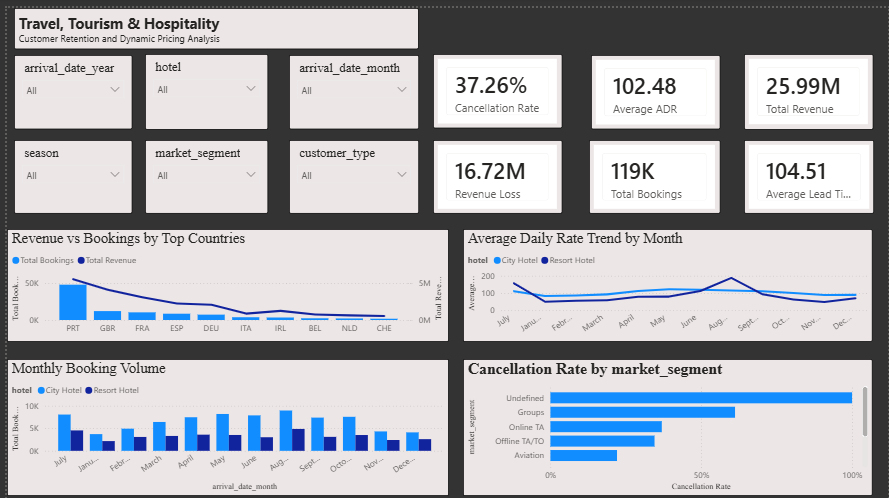

Layout of this report page (visuals, bound fields, positions):
{"tool":"powerbi","page":{"name":"Hotel Management Dashboard","canvas":[1280,720],"ordinal":0},"visuals":[{"type":"textbox","box":[9.8,0,1249.5,59.8],"z":0},{"type":"slicer","fields":{"Values":["cleaned_hotel_bookings.arrival_date_year"]},"box":[10.3,68.9,171.5,108.5],"z":1000},{"type":"slicer","fields":{"Values":["cleaned_hotel_bookings.hotel"]},"box":[200.9,67.4,178.9,110],"z":2000},{"type":"slicer","fields":{"Values":["cleaned_hotel_bookings.arrival_date_month"]},"box":[409.1,68.9,189.1,108.5],"z":3000},{"type":"slicer","fields":{"Values":["cleaned_hotel_bookings.market_segment"]},"box":[200.9,192.1,178.9,107],"z":4000},{"type":"slicer","fields":{"Values":["cleaned_hotel_bookings.customer_type"]},"box":[409.1,192.1,189.1,107],"z":5000},{"type":"slicer","fields":{"Values":["cleaned_hotel_bookings.season"]},"box":[10.3,192.1,171.5,107],"z":6000},{"type":"lineClusteredColumnComboChart","title":"Revenue vs Bookings by Top Countries","fields":{"Category":["cleaned_hotel_bookings.country"],"Y":["cleaned_hotel_bookings.Total Bookings"],"Y2":["cleaned_hotel_bookings.Total Revenue"]},"box":[9.9,321.8,632.2,163],"z":7000},{"type":"lineChart","title":"Average Daily Rate Trend by Month","fields":{"Category":["cleaned_hotel_bookings.arrival_date_month"],"Y":["cleaned_hotel_bookings.Average ADR"],"Series":["cleaned_hotel_bookings.hotel"]},"box":[662.7,321.1,595.3,164.2],"z":8000},{"type":"cardVisual","fields":{"Data":["cleaned_hotel_bookings.Cancellation Rate"]},"box":[618.7,67.4,187.7,108.5],"z":9000},{"type":"cardVisual","fields":{"Data":["cleaned_hotel_bookings.Average ADR"]},"box":[848.9,68.9,187.7,108.5],"z":10000},{"type":"cardVisual","fields":{"Data":["cleaned_hotel_bookings.Total Revenue"]},"box":[1070.3,67.4,187.7,110],"z":11000},{"type":"cardVisual","fields":{"Data":["cleaned_hotel_bookings.Total Bookings"]},"box":[846,192.1,190.6,107],"z":12000},{"type":"cardVisual","fields":{"Data":["cleaned_hotel_bookings.Revenue Loss"]},"box":[618.7,192.1,187.7,107],"z":13000},{"type":"cardVisual","fields":{"Data":["cleaned_hotel_bookings.Average Lead Time"]},"box":[1070.3,192.1,189.1,107],"z":14000},{"type":"clusteredColumnChart","title":"Monthly Booking Volume","fields":{"Category":["cleaned_hotel_bookings.arrival_date_month"],"Y":["cleaned_hotel_bookings.Total Bookings"],"Series":["cleaned_hotel_bookings.hotel"]},"box":[9.9,510.3,632.2,199.9],"z":15000},{"type":"clusteredBarChart","fields":{"Category":["cleaned_hotel_bookings.market_segment"],"Y":["cleaned_hotel_bookings.Cancellation Rate"]},"box":[662.7,510.2,595.3,199.4],"z":16000}]}

Visuals, with their boxes in screenshot pixels (x1, y1, x2, y2), scaled from the page's 1280x720 canvas onto the 889x498 screenshot:
textbox: [x1=7, y1=0, x2=875, y2=41]
slicer - cleaned_hotel_bookings.arrival_date_year: [x1=7, y1=48, x2=126, y2=123]
slicer - cleaned_hotel_bookings.hotel: [x1=140, y1=47, x2=264, y2=123]
slicer - cleaned_hotel_bookings.arrival_date_month: [x1=284, y1=48, x2=415, y2=123]
slicer - cleaned_hotel_bookings.market_segment: [x1=140, y1=133, x2=264, y2=207]
slicer - cleaned_hotel_bookings.customer_type: [x1=284, y1=133, x2=415, y2=207]
slicer - cleaned_hotel_bookings.season: [x1=7, y1=133, x2=126, y2=207]
"Revenue vs Bookings by Top Countries" lineClusteredColumnComboChart: [x1=7, y1=223, x2=446, y2=335]
"Average Daily Rate Trend by Month" lineChart: [x1=460, y1=222, x2=874, y2=336]
cardVisual - cleaned_hotel_bookings.Cancellation Rate: [x1=430, y1=47, x2=560, y2=122]
cardVisual - cleaned_hotel_bookings.Average ADR: [x1=590, y1=48, x2=720, y2=123]
cardVisual - cleaned_hotel_bookings.Total Revenue: [x1=743, y1=47, x2=874, y2=123]
cardVisual - cleaned_hotel_bookings.Total Bookings: [x1=588, y1=133, x2=720, y2=207]
cardVisual - cleaned_hotel_bookings.Revenue Loss: [x1=430, y1=133, x2=560, y2=207]
cardVisual - cleaned_hotel_bookings.Average Lead Time: [x1=743, y1=133, x2=875, y2=207]
"Monthly Booking Volume" clusteredColumnChart: [x1=7, y1=353, x2=446, y2=491]
clusteredBarChart - cleaned_hotel_bookings.market_segment x cleaned_hotel_bookings.Cancellation Rate: [x1=460, y1=353, x2=874, y2=491]
